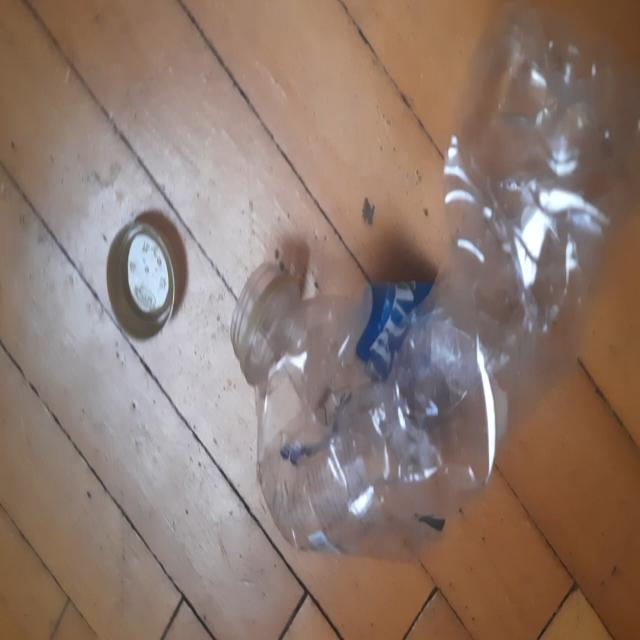Plastic: (230, 258, 498, 556)
